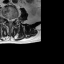CCS_stenosis: (9, 16, 11, 25)
LFS_normal: (13, 15, 15, 22)
LLS_normal: (11, 16, 13, 24)
RFS_stenosis: (5, 15, 7, 21)
RLS_normal: (7, 16, 9, 24)
